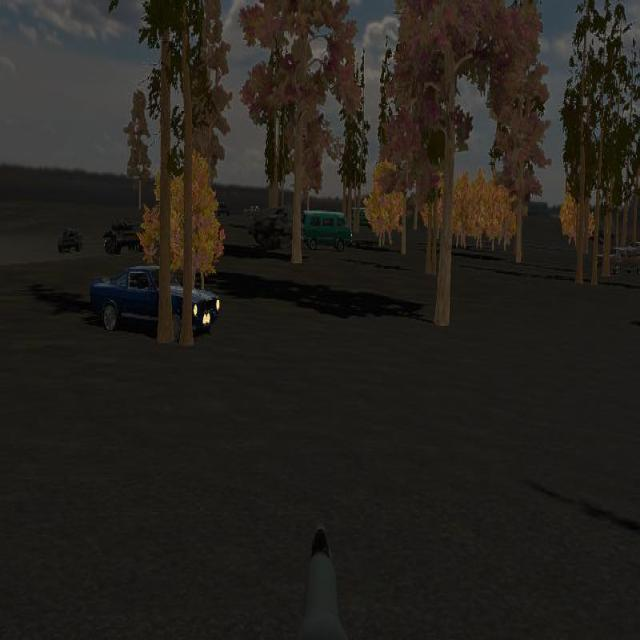Tank: (103, 216, 143, 255)
car: (88, 265, 222, 340), (301, 209, 351, 252), (600, 241, 640, 278)
